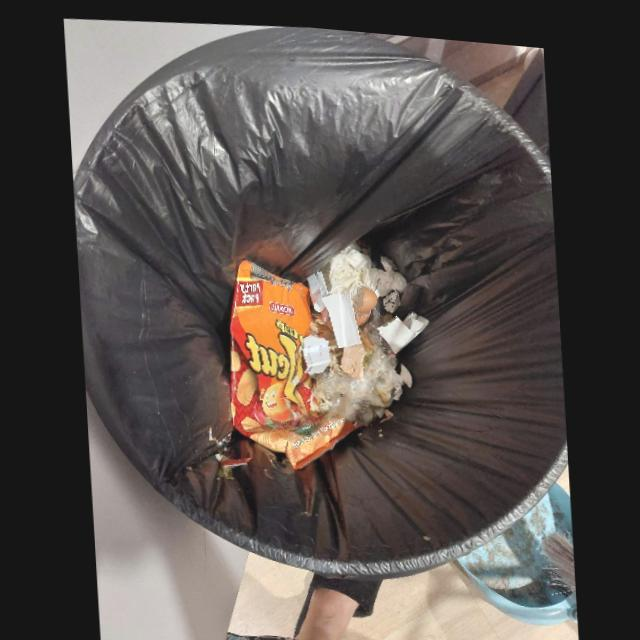biowaste: (354, 279, 377, 307), (354, 304, 370, 319)
paper: (306, 265, 361, 341), (328, 244, 407, 290)
wrapper: (229, 256, 354, 463)
